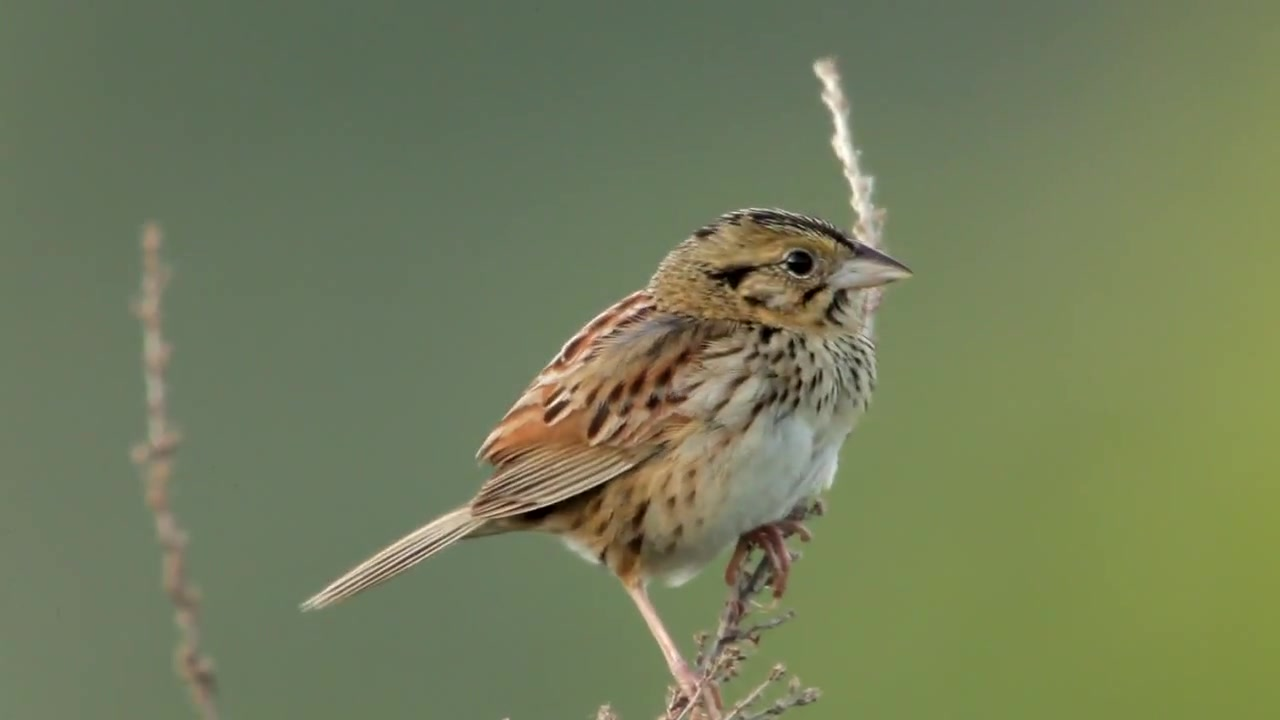bird: (301, 207, 916, 718)
